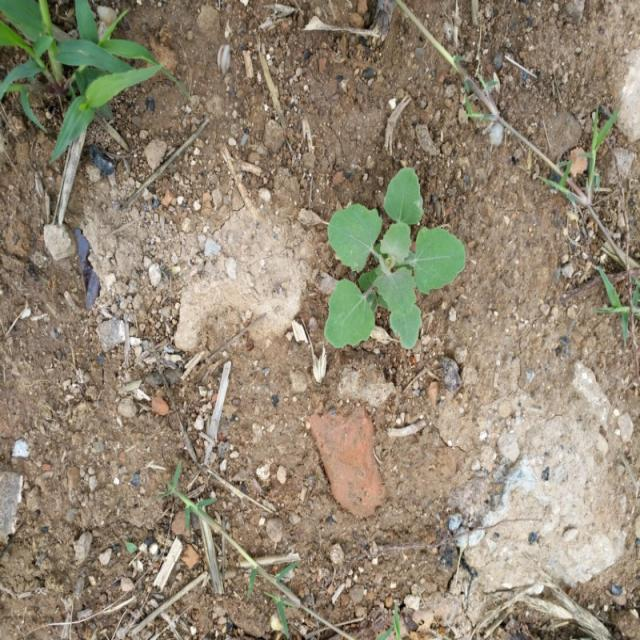ca: (323, 171, 467, 355)
